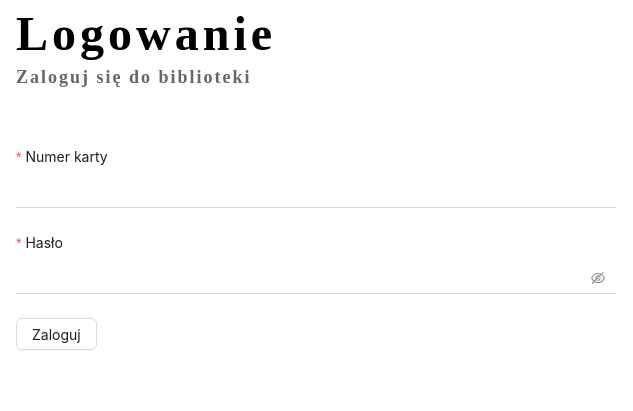
Komponent Login › should display an error when no password is provided
The width and height of the screenshot is (633, 411).
Click the button with test id "button-submit". click: coordinates (56, 334)
box: [16,318,97,350]
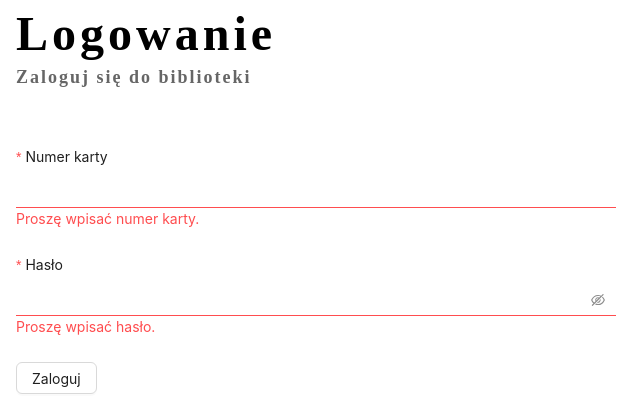
Expected: the text "Proszę wpisać hasło." is shown, [16,318,155,335]
